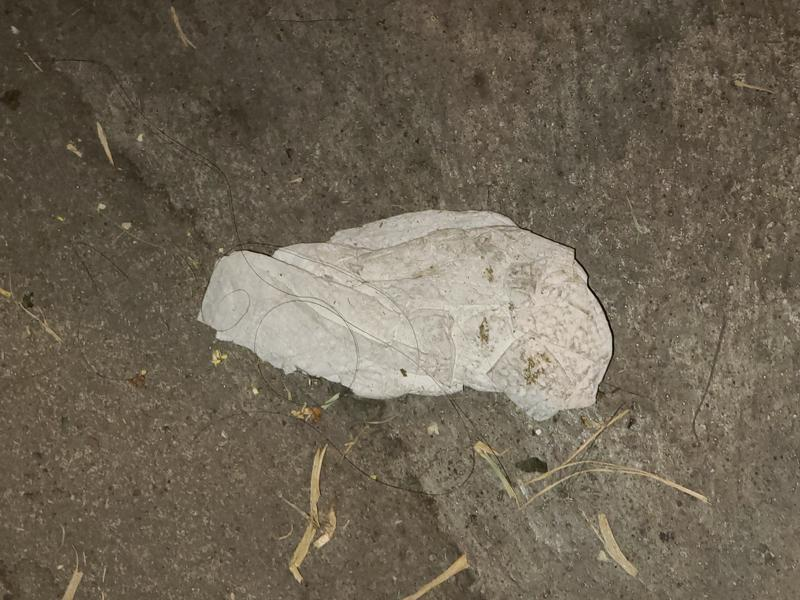papel: (196, 210, 615, 425)
